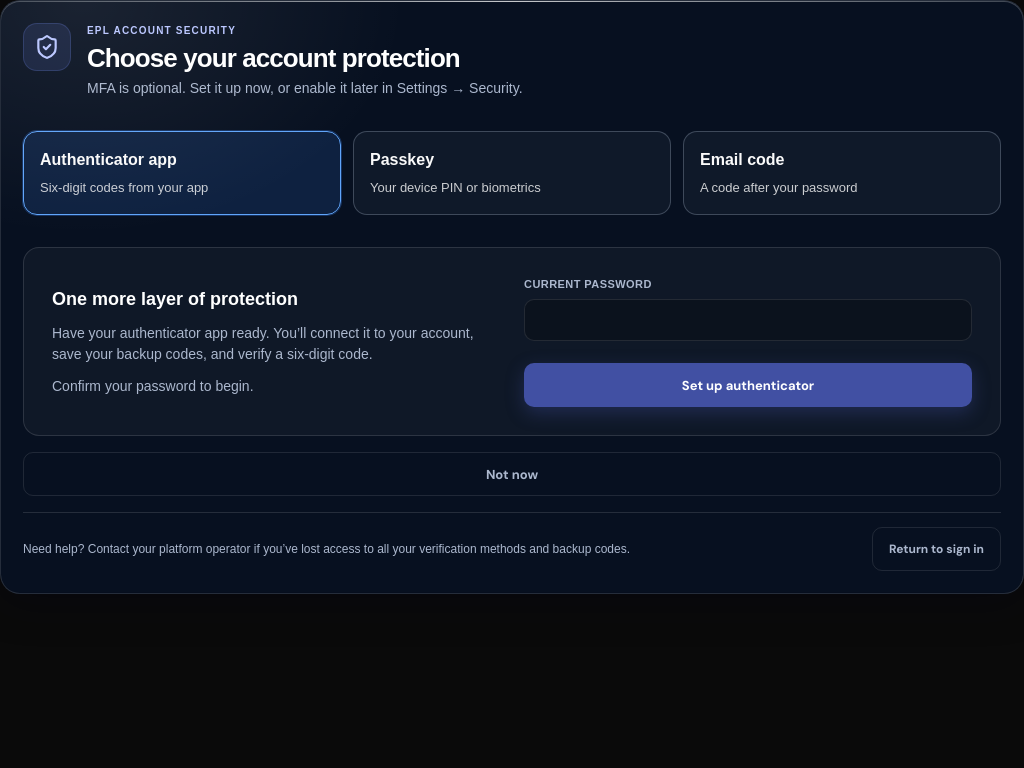
Test: MFA screens › shows a retryable error when skipping cannot refresh server status
Click the button "Not now". click: [512, 474]
box: [23,452,1001,496]
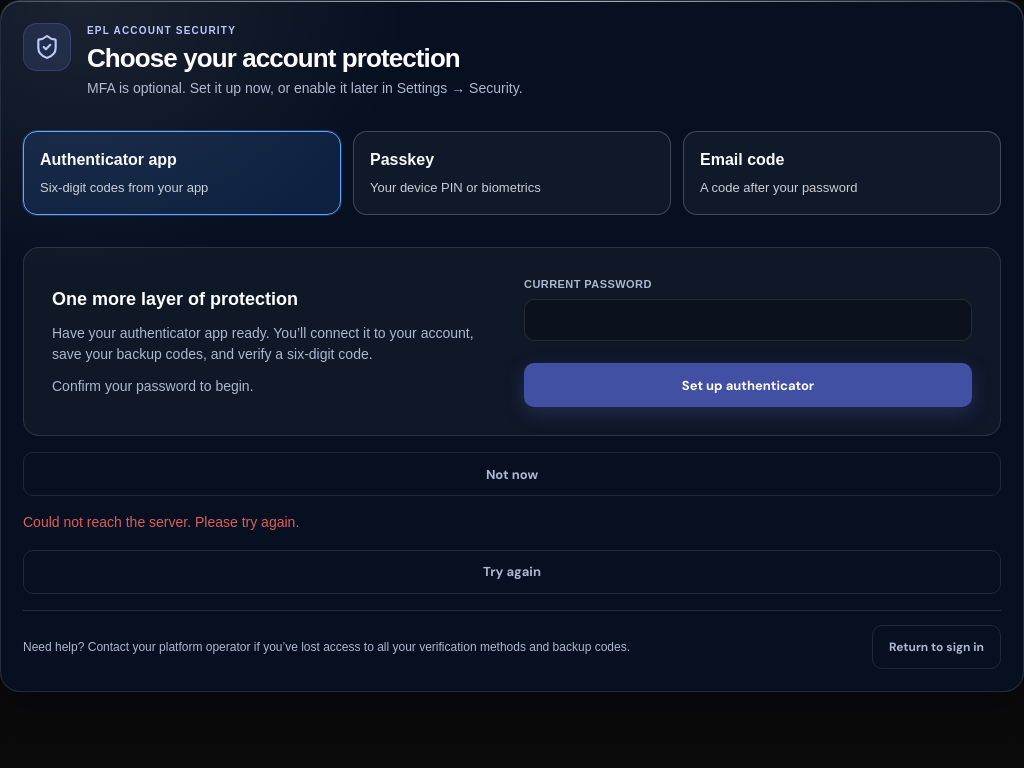
Now the message shows "Could not reach the server", box [23,514,299,530]
